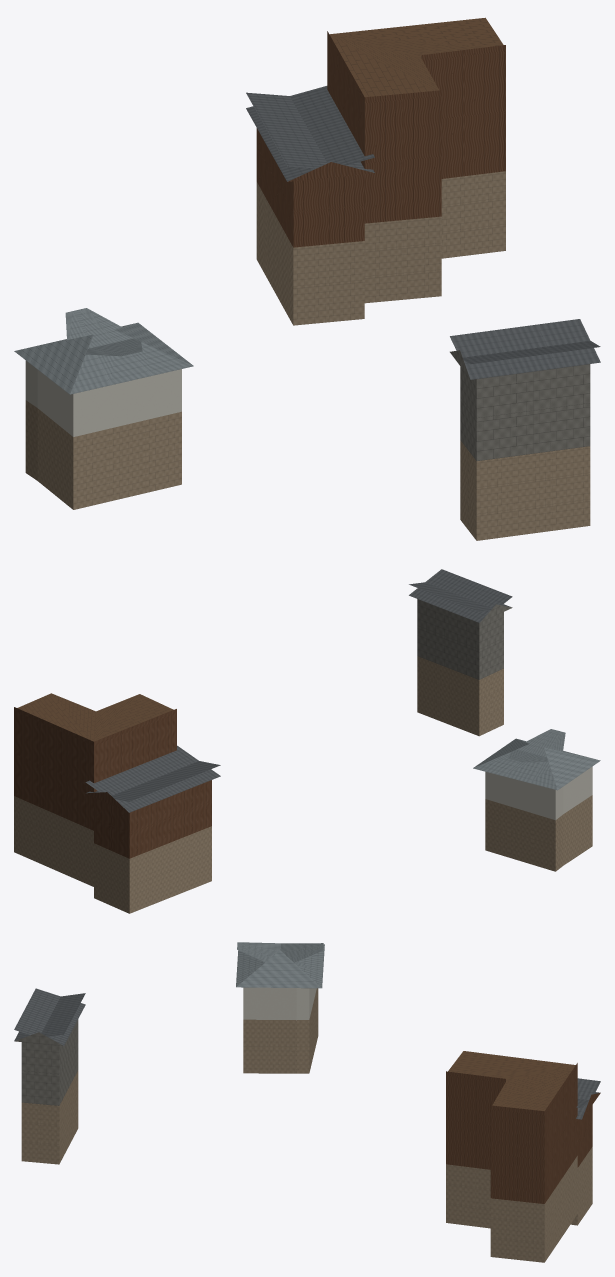
File: bld_c3_17_460.gltf
3 renders of one model, top to bottom at view 1: azimuth 30°, elevation 25°; view 2: azimuth 150°, elevation 25°; view 3: azimuth 270°, elevation 25°, orthographic. The views are drawn at different scales.
Parts seen in each view (by area): view 1: bld_c3_17_460; view 2: bld_c3_17_460; view 3: bld_c3_17_460.
Part boxes in pixels (<box>): bld_c3_17_460: <box>14,17,600,540</box>; bld_c3_17_460: <box>14,569,600,913</box>; bld_c3_17_460: <box>14,942,600,1262</box>.
Size of the model in its own units: 41.76 by 14.18 by 46.27.
Materials: 9 (9 with a texture image).
